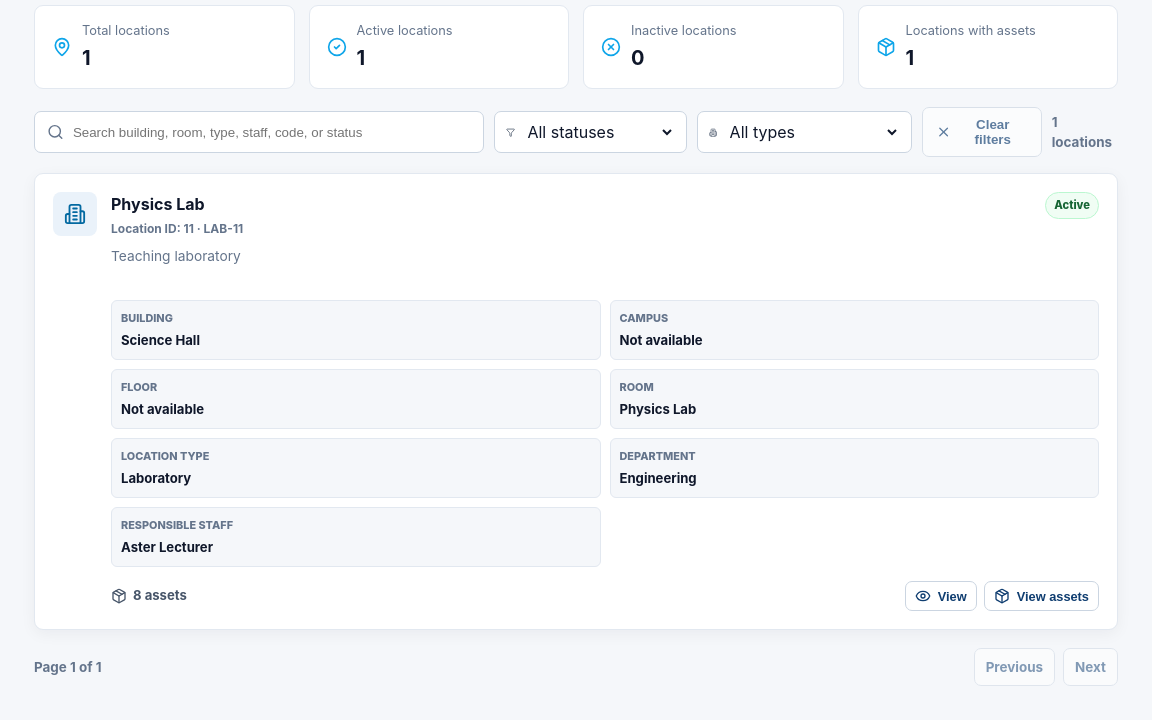
Test: Department Head locations › views location details and closes the dialog
The width and height of the screenshot is (1152, 720).
(page scrolled)
Click the button "View". click: (941, 596)
box: x1=905 y1=581 x2=977 y2=611
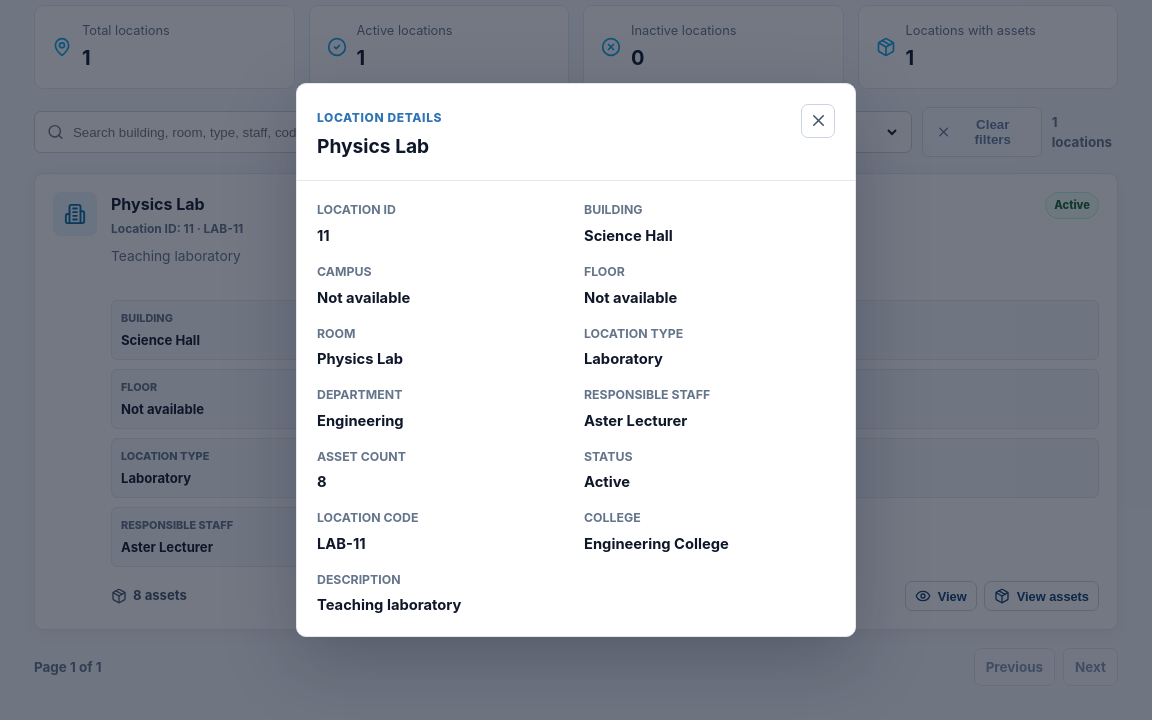
Expected: the dialog "Physics Lab" shows "LAB-11", x1=317 y1=535 x2=366 y2=553
Expected: the dialog "Physics Lab" shows "Science Hall", x1=584 y1=227 x2=673 y2=245
Expected: the dialog "Physics Lab" shows "Engineering College", x1=584 y1=535 x2=729 y2=553
Click the button named "Close location details". click: (818, 121)
box: x1=801 y1=104 x2=835 y2=138
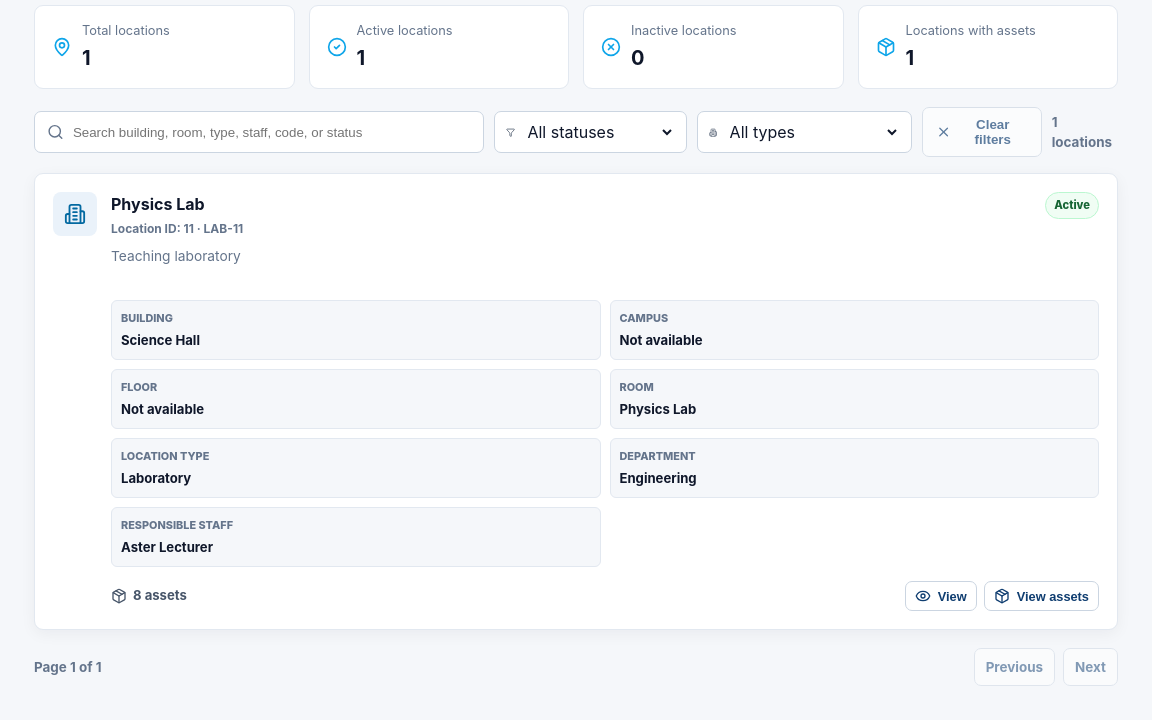
Expected: the dialog is gone
